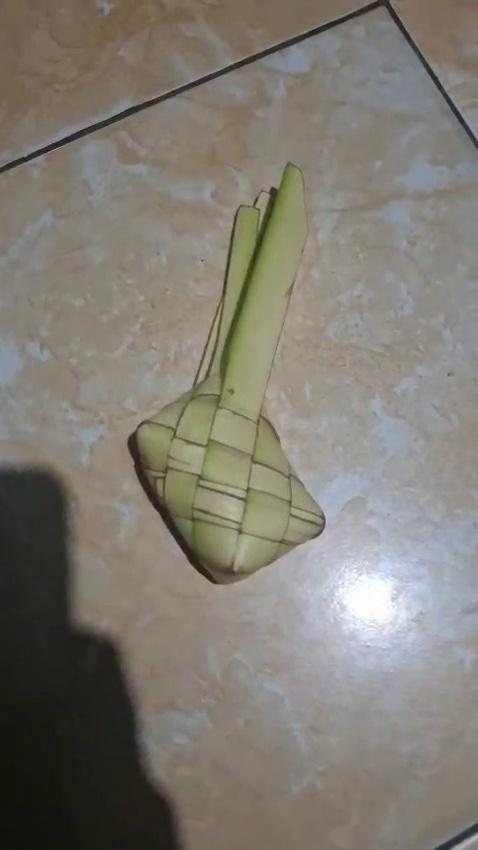Tipat Bantal: (123, 172, 333, 588)
